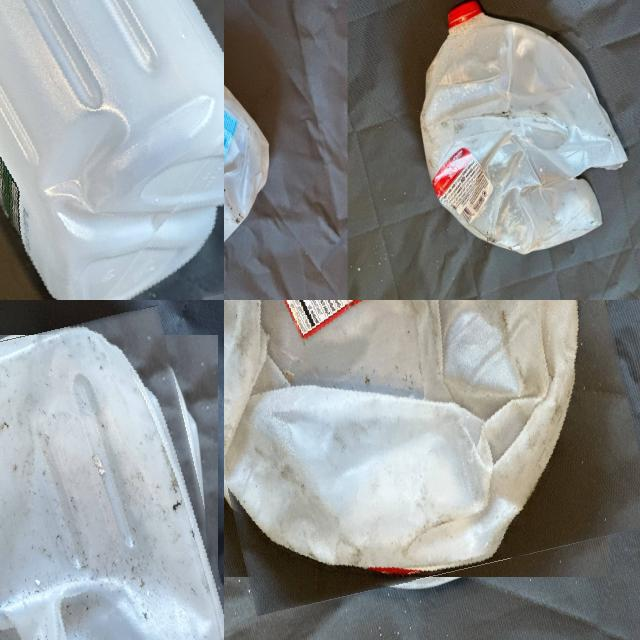milk-jug: (224, 300, 634, 597), (0, 319, 224, 640), (0, 0, 224, 300), (423, 0, 629, 254), (224, 47, 267, 248)
